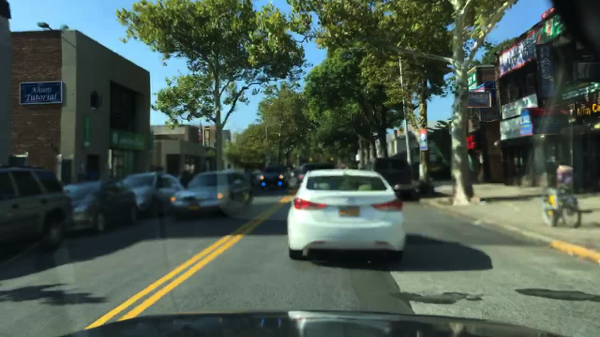bike: (542, 184, 581, 228)
car: (287, 169, 405, 267), (0, 164, 74, 256), (63, 177, 138, 234), (170, 171, 252, 221), (113, 172, 184, 216), (360, 156, 418, 201), (293, 162, 337, 192), (259, 166, 295, 187), (166, 169, 191, 189), (250, 170, 261, 187)
traffic sign: (419, 129, 427, 150), (397, 127, 405, 139)
